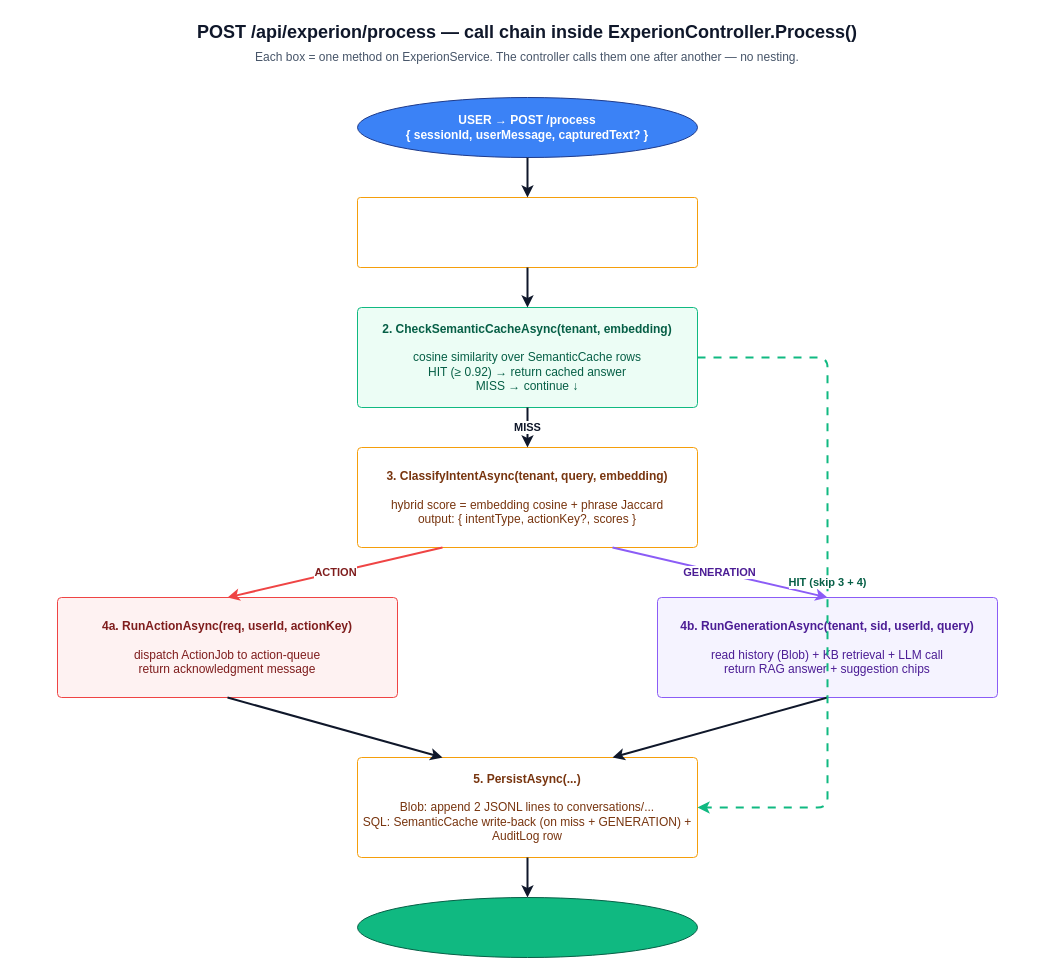
Image size: 1054x975. Some labels were removed from this diagram. Each missing label, with the centre of its shape:
"1. EmbedQueryAsync(query) input: text → output: float[] (e.g. 1536-dim)" goes at [527,232].
"ProcessResponse → SDK { message, suggestions, intentType, cacheHit, pipeline[] }" goes at [527,927].
